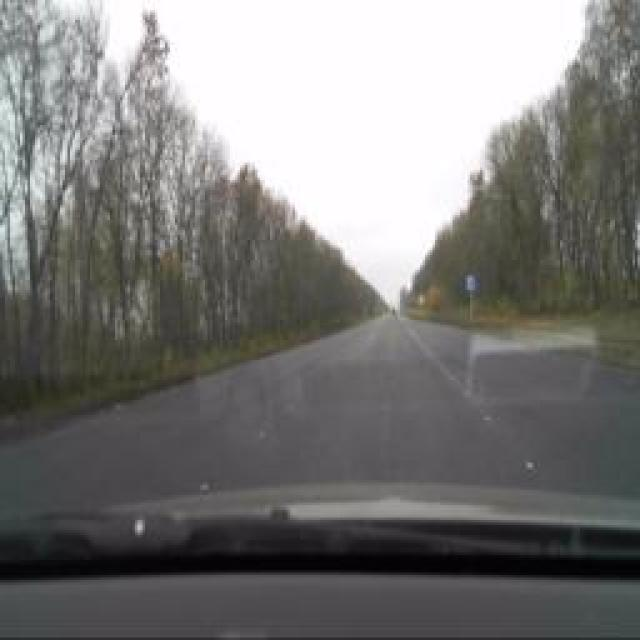sign: (465, 275, 475, 290)
